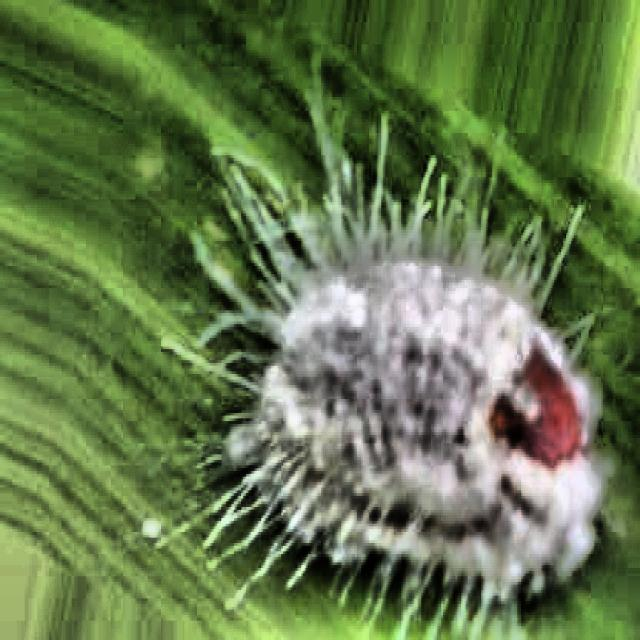Mealy-bug: (153, 86, 636, 635)
